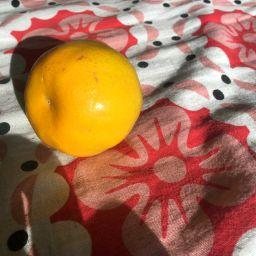Ripe: (27, 40, 140, 155)
